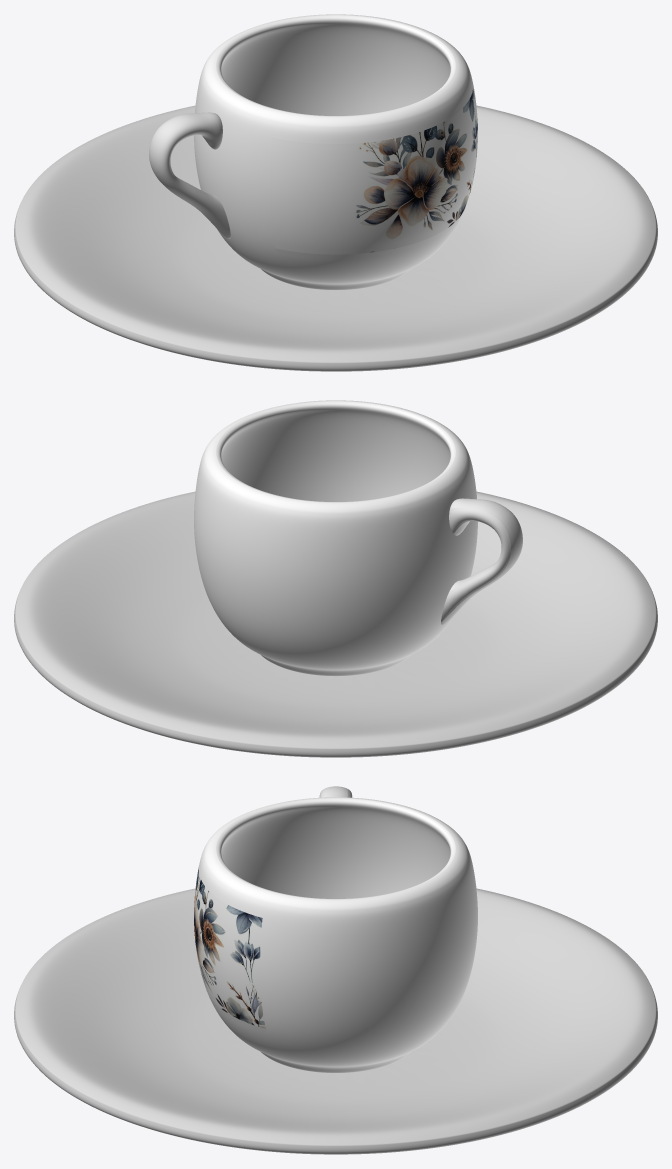
3 views of the same model, one above another, from view 1: azimuth 30°, elevation 25°; view 2: azimuth 150°, elevation 25°; view 3: azimuth 270°, elevation 25° (orthographic).
Visible parts, largest first — view 1: e03e615b-ffaa-417a-bee6-3704eccb21de, 2808725e-19c8-4627-a36c-e37b969bb8f3, 0fb2f125-080f-4354-894c-e8eee3c3792f, 92f16d0c-013c-4b8b-9c4f-a432c8afe8e0; view 2: e03e615b-ffaa-417a-bee6-3704eccb21de, 2808725e-19c8-4627-a36c-e37b969bb8f3, 92f16d0c-013c-4b8b-9c4f-a432c8afe8e0; view 3: e03e615b-ffaa-417a-bee6-3704eccb21de, 2808725e-19c8-4627-a36c-e37b969bb8f3, 0fb2f125-080f-4354-894c-e8eee3c3792f.
Part boxes in pixels (left/top/right/bottom): e03e615b-ffaa-417a-bee6-3704eccb21de: left=14, top=105, right=657, bottom=371; 2808725e-19c8-4627-a36c-e37b969bb8f3: left=194, top=14, right=477, bottom=290; 0fb2f125-080f-4354-894c-e8eee3c3792f: left=270, top=89, right=477, bottom=254; 92f16d0c-013c-4b8b-9c4f-a432c8afe8e0: left=149, top=112, right=230, bottom=238; e03e615b-ffaa-417a-bee6-3704eccb21de: left=14, top=491, right=657, bottom=757; 2808725e-19c8-4627-a36c-e37b969bb8f3: left=194, top=400, right=477, bottom=676; 92f16d0c-013c-4b8b-9c4f-a432c8afe8e0: left=441, top=498, right=522, bottom=624; e03e615b-ffaa-417a-bee6-3704eccb21de: left=14, top=888, right=657, bottom=1154; 2808725e-19c8-4627-a36c-e37b969bb8f3: left=199, top=797, right=477, bottom=1072; 0fb2f125-080f-4354-894c-e8eee3c3792f: left=194, top=867, right=265, bottom=1028.
Size of the model in its own units: 2.69 by 0.9999 by 2.69.
Materials: 4 (1 with a texture image).
